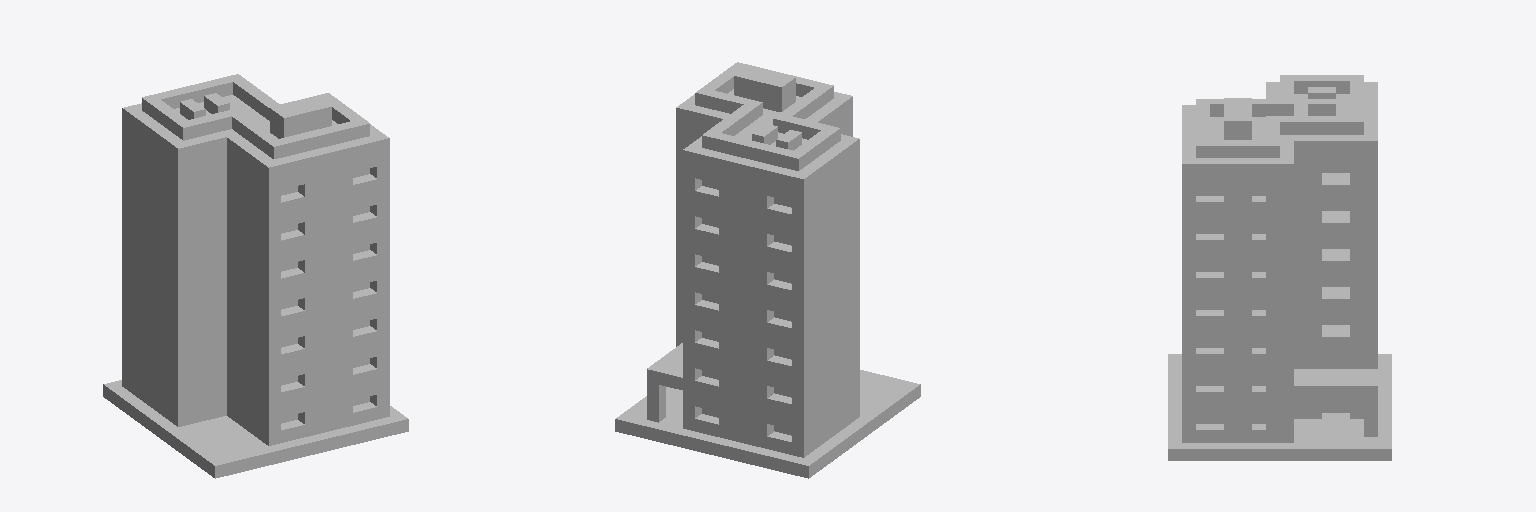
Rendered from House1.obj.
3 renders of one model, left to right at view 1: azimuth 30°, elevation 25°; view 2: azimuth 150°, elevation 25°; view 3: azimuth 270°, elevation 25°, orthographic.
Size of the model in its own units: 16 by 25 by 16.